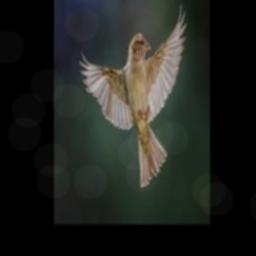Sparrow: (79, 4, 187, 187)
